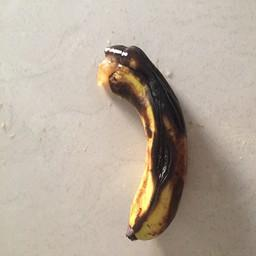Bad_banana: (93, 37, 201, 243)
